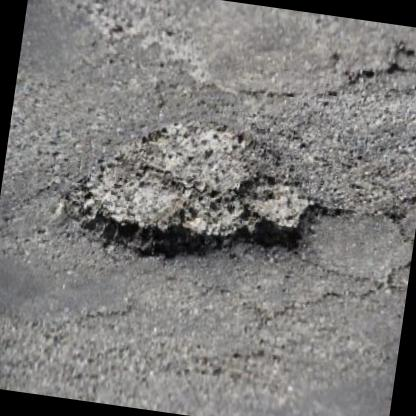pothole: (54, 100, 336, 286)
